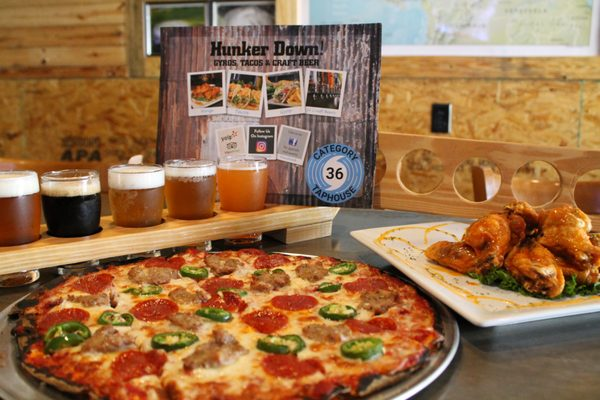sandwich: (3, 245, 446, 396)
